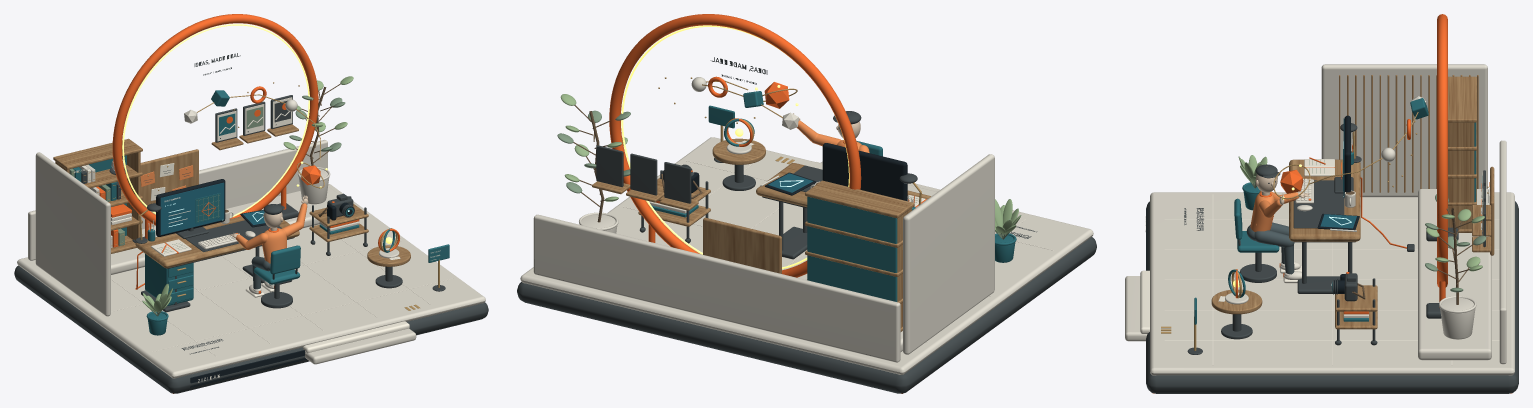
The model's file is possibility-studio.glb.
The picture shows the model from 3 angles, left to right: view 1: azimuth 30°, elevation 25°; view 2: azimuth 150°, elevation 25°; view 3: azimuth 270°, elevation 25°; orthographic projection. The views are drawn at different scales.
Parts seen in each view (by area): view 1: Warm limestone working floor, Left screen wall, Floating graphite foundation, Continuous orange portal, Rear low parapet, Wide monitor glass, Back gallery plinth, One-piece oak desktop, Idea board, Front step lower, Body / sculpted jacket and sleeves, Bookshelf oak shelf.004 (+16 smaller); view 2: Rear low parapet, Warm limestone working floor, Left screen wall, Floating graphite foundation, Bookshelf backing, Continuous orange portal, Idea board, Wide monitor enclosure, Bookshelf oak shelf.004, Photograph frame.002, Photograph frame.001, Photograph frame (+7 smaller); view 3: Warm limestone working floor, Left screen wall, Floating graphite foundation, Back gallery plinth, Continuous orange portal, Bookshelf side.001, One-piece oak desktop, Rear low parapet, Desktop inset deskmat, Bookshelf oak shelf.004, Tall ceramic planter, Front step lower (+15 smaller).
Part boxes in pixels (bbox=[...]): Warm limestone working floor: bbox=[17, 184, 485, 378]; Left screen wall: bbox=[35, 152, 110, 316]; Floating graphite foundation: bbox=[14, 265, 488, 393]; Continuous orange portal: bbox=[112, 14, 318, 225]; Rear low parapet: bbox=[28, 140, 327, 260]; Wide monitor glass: bbox=[160, 182, 224, 234]; Back gallery plinth: bbox=[111, 186, 338, 274]; One-piece oak desktop: bbox=[135, 216, 299, 268]; Idea board: bbox=[140, 149, 198, 207]; Front step lower: bbox=[305, 328, 416, 364]; Body / sculpted jacket and sleeves: bbox=[235, 203, 307, 263]; Bookshelf oak shelf.004: bbox=[53, 138, 142, 169]; Rear low parapet: bbox=[533, 214, 900, 362]; Warm limestone working floor: bbox=[520, 137, 1093, 374]; Left screen wall: bbox=[903, 154, 994, 354]; Floating graphite foundation: bbox=[517, 237, 1096, 393]; Bookshelf backing: bbox=[807, 196, 897, 301]; Continuous orange portal: bbox=[609, 14, 861, 277]; Idea board: bbox=[703, 217, 781, 273]; Wide monitor enclosure: bbox=[822, 143, 907, 201]; Bookshelf oak shelf.004: bbox=[805, 180, 914, 218]; Photograph frame.002: bbox=[596, 145, 623, 187]; Photograph frame.001: bbox=[630, 153, 657, 195]; Photograph frame: bbox=[664, 162, 691, 203]; Warm limestone working floor: bbox=[1150, 192, 1514, 375]; Left screen wall: bbox=[1321, 64, 1487, 197]; Floating graphite foundation: bbox=[1146, 201, 1518, 393]; Back gallery plinth: bbox=[1418, 189, 1491, 360]; Continuous orange portal: bbox=[1437, 14, 1447, 287]; Bookshelf side.001: bbox=[1448, 122, 1474, 229]; One-piece oak desktop: bbox=[1289, 159, 1360, 241]; Rear low parapet: bbox=[1499, 140, 1506, 364]; Desktop inset deskmat: bbox=[1293, 180, 1344, 228]; Bookshelf oak shelf.004: bbox=[1448, 76, 1476, 122]; Tall ceramic planter: bbox=[1440, 297, 1475, 339]; Front step lower: bbox=[1125, 276, 1147, 341].
Bounding box in the file's own units: 9 × 6.61 × 8.24.
Materials: 18 (1 with a texture image).
